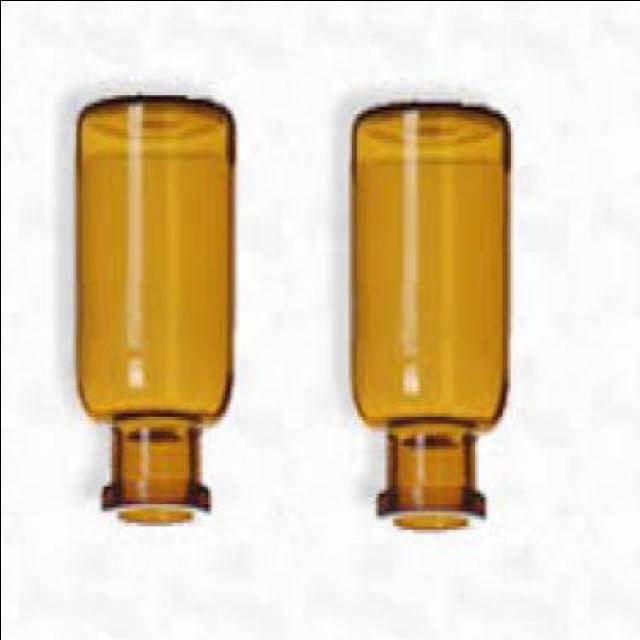kaca: (346, 102, 508, 536), (74, 98, 232, 526)
